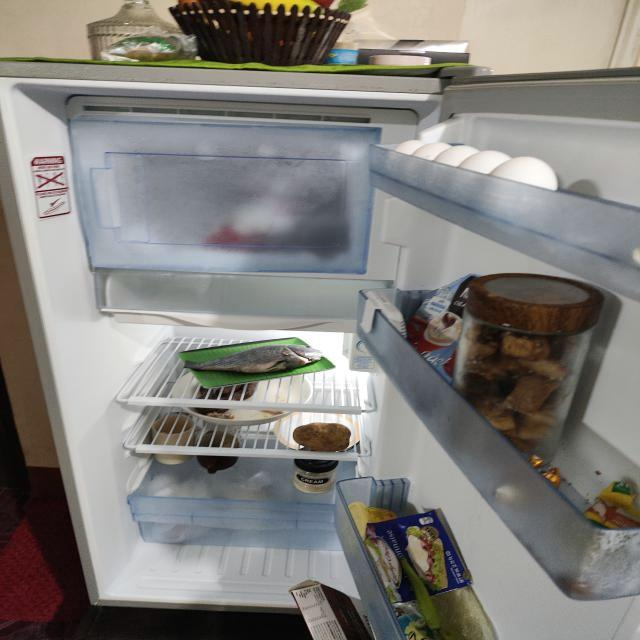egg: (380, 133, 559, 212)
fish: (177, 336, 324, 378)
potato: (291, 421, 352, 455)
